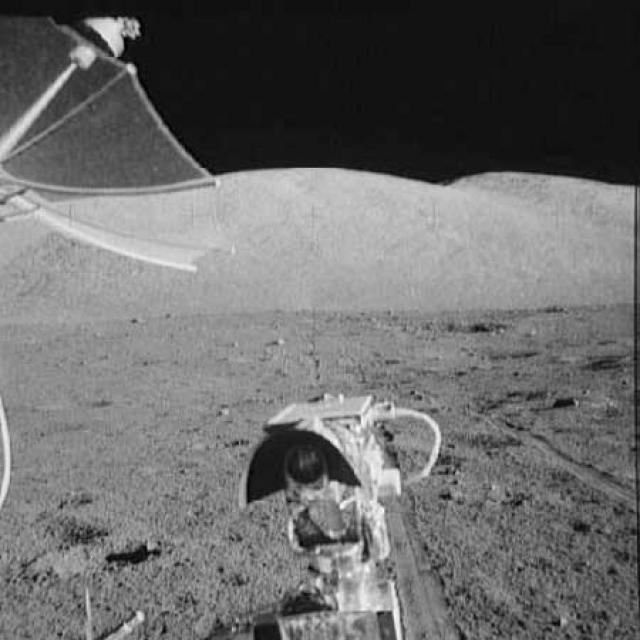artifact: (0, 1, 218, 289), (230, 379, 446, 639)
crater: (419, 314, 501, 338)
